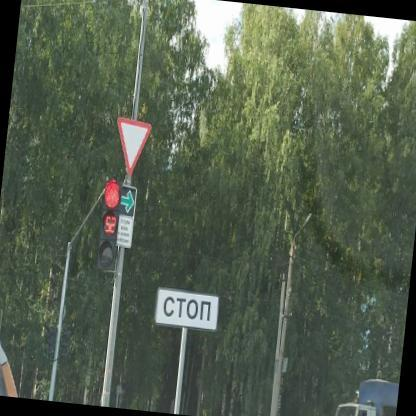road_sign: (154, 288, 218, 331), (117, 118, 152, 176)
traffic light: (96, 176, 122, 271)
